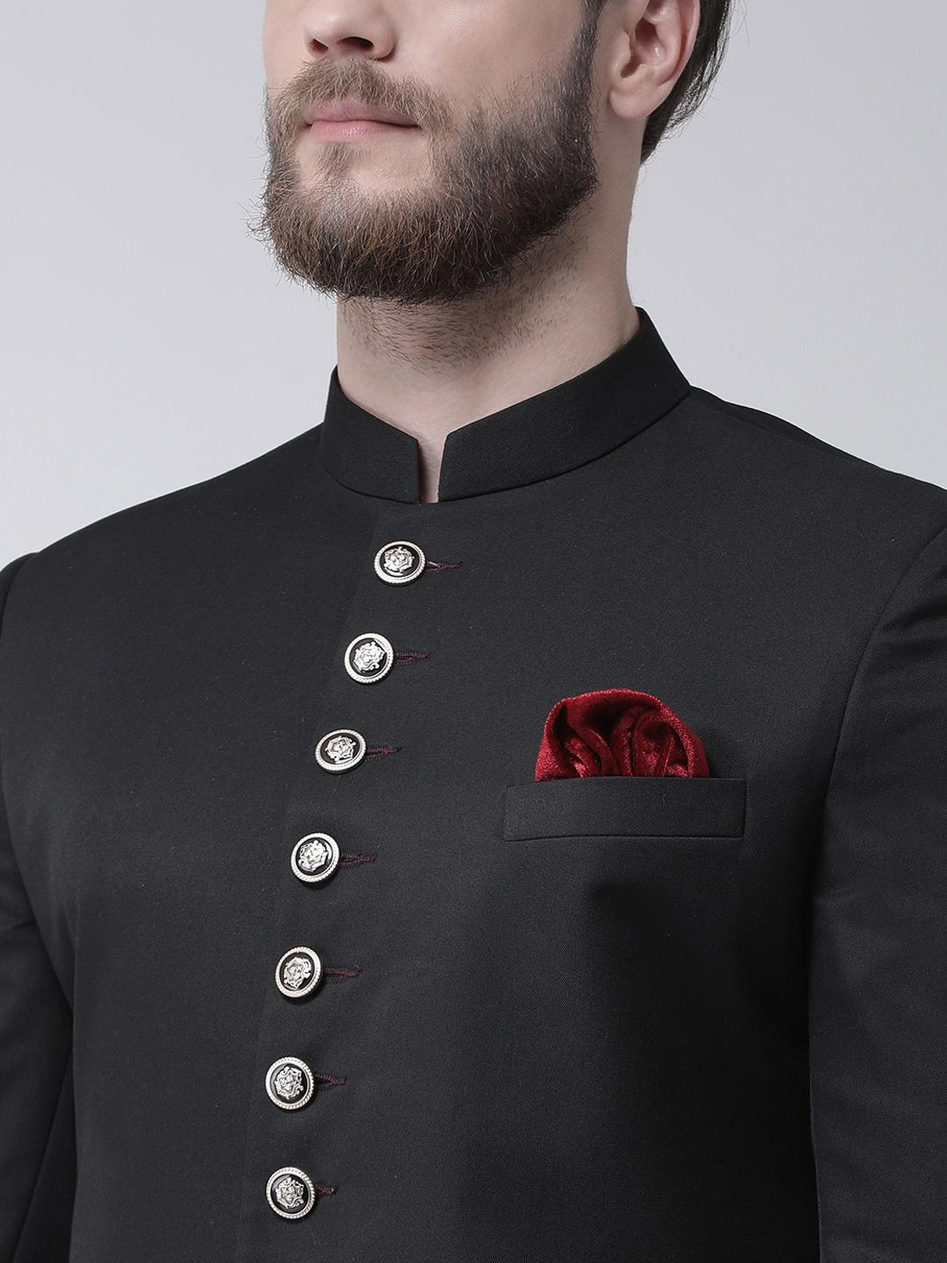Plain sherwani: (4, 310, 945, 1260)
